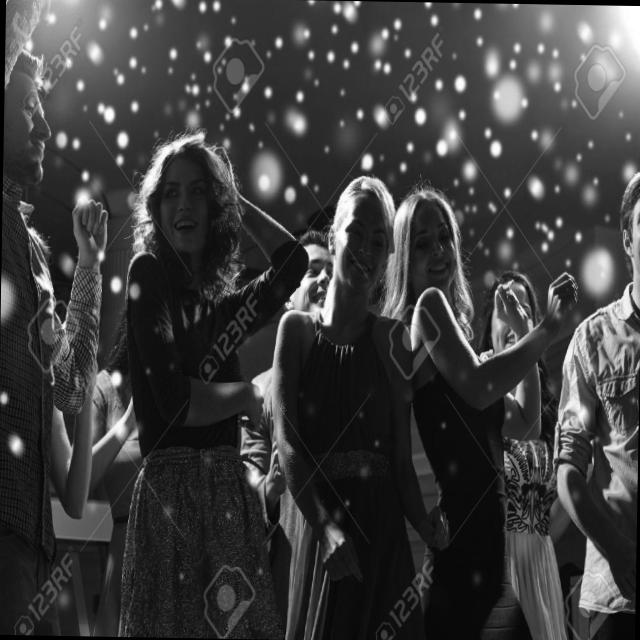person: (104, 141, 316, 638), (266, 175, 476, 640), (398, 177, 581, 640), (0, 21, 80, 634), (550, 146, 640, 640), (482, 260, 588, 640), (84, 304, 136, 637), (278, 234, 348, 330)
